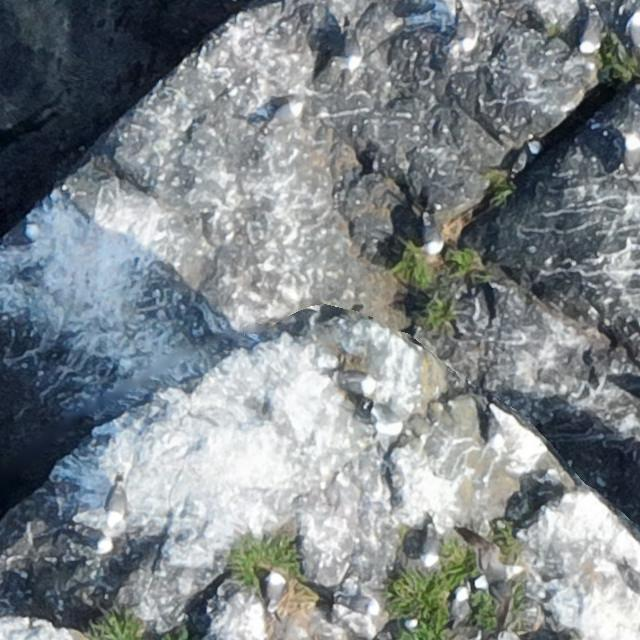F: (474, 538, 524, 624)
umineko: (450, 586, 479, 638), (484, 410, 510, 452), (459, 13, 484, 52), (345, 28, 363, 72), (77, 529, 112, 551), (334, 373, 371, 392), (340, 594, 377, 612), (421, 220, 440, 254), (265, 574, 284, 607), (512, 145, 533, 174), (268, 104, 297, 124), (580, 22, 599, 52), (108, 488, 125, 520), (624, 140, 639, 172), (422, 532, 436, 566), (630, 15, 640, 47), (403, 618, 419, 630)
